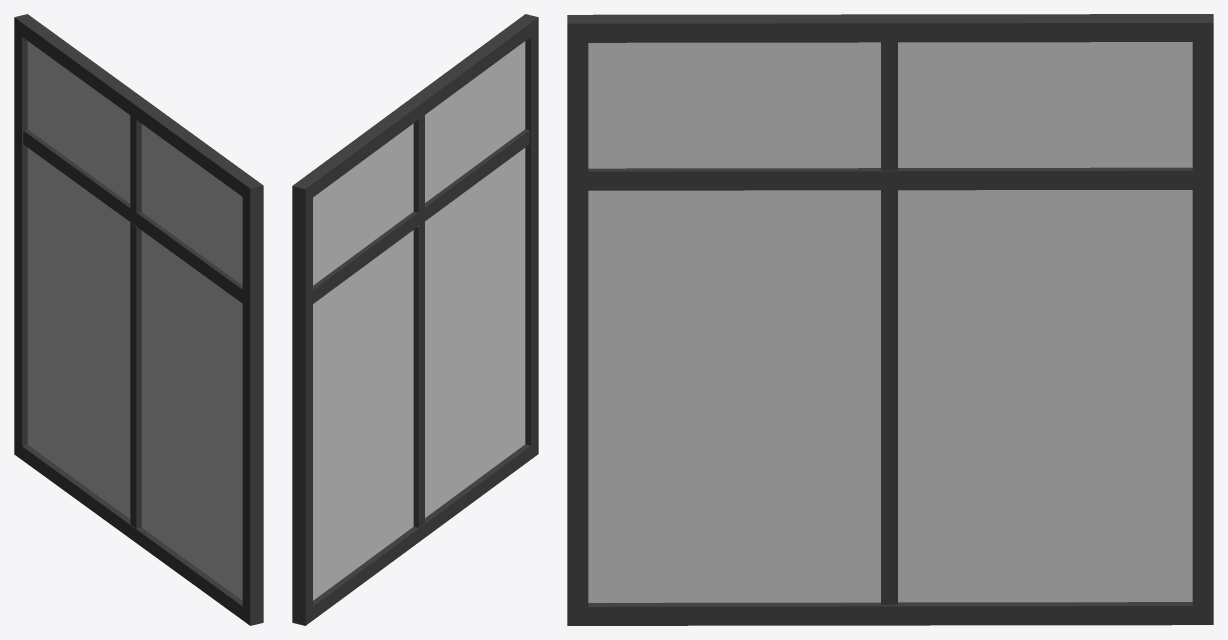
File: Seperator18.fbx
3 renders of one model, left to right at view 1: azimuth 30°, elevation 25°; view 2: azimuth 150°, elevation 25°; view 3: azimuth 270°, elevation 25°, orthographic. The views are drawn at different scales.
Visible parts, largest first — view 1: Seperator18; view 2: Seperator18; view 3: Seperator18.
Part boxes in pixels (left/top/right/bottom): Seperator18: left=14, top=14, right=263, bottom=625; Seperator18: left=292, top=14, right=538, bottom=625; Seperator18: left=567, top=14, right=1213, bottom=625.
Size of the model in its own units: 0.055 by 1.53 by 1.58.
